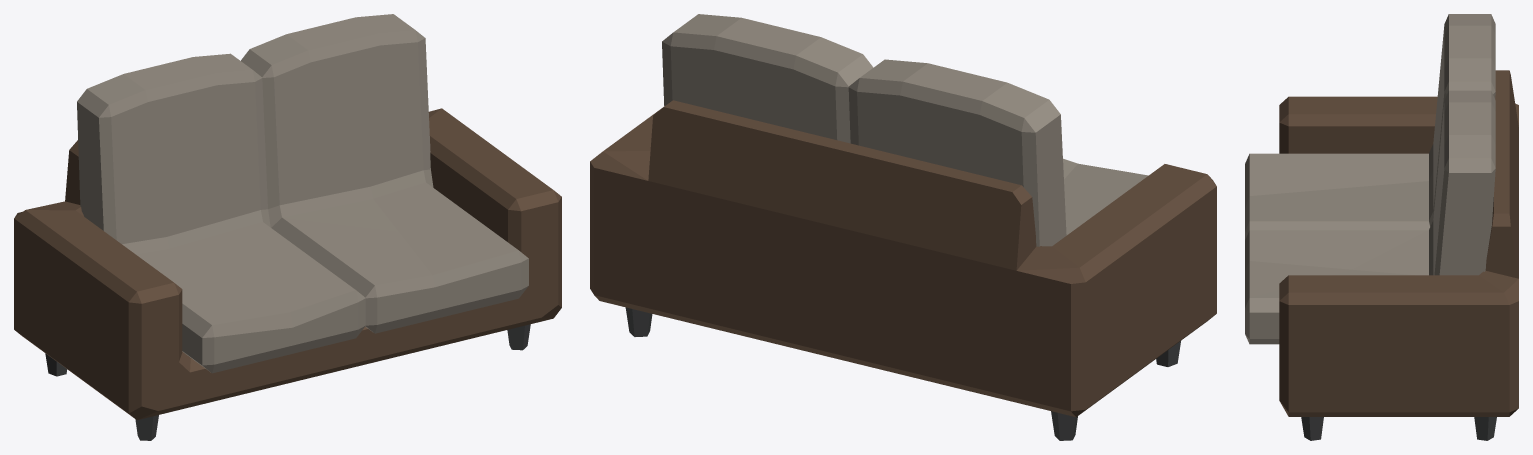
Rendered from SM_Props_Interior_House_Room_Sofa_01_TwoSeater.fbx.
3 renders of one model, left to right at view 1: azimuth 30°, elevation 25°; view 2: azimuth 150°, elevation 25°; view 3: azimuth 270°, elevation 25°, orthographic. The views are drawn at different scales.
Parts seen in each view (by area): view 1: SM_Props_Interior_House_Room_Sofa_01_TwoSeater; view 2: SM_Props_Interior_House_Room_Sofa_01_TwoSeater; view 3: SM_Props_Interior_House_Room_Sofa_01_TwoSeater.
Boxes of the visible parts, x1,y1,x2,y2 form: SM_Props_Interior_House_Room_Sofa_01_TwoSeater: (14,14,561,440); SM_Props_Interior_House_Room_Sofa_01_TwoSeater: (590,14,1216,440); SM_Props_Interior_House_Room_Sofa_01_TwoSeater: (1245,14,1518,440).
Bounding box in the file's own units: 141 × 86.85 × 80.
